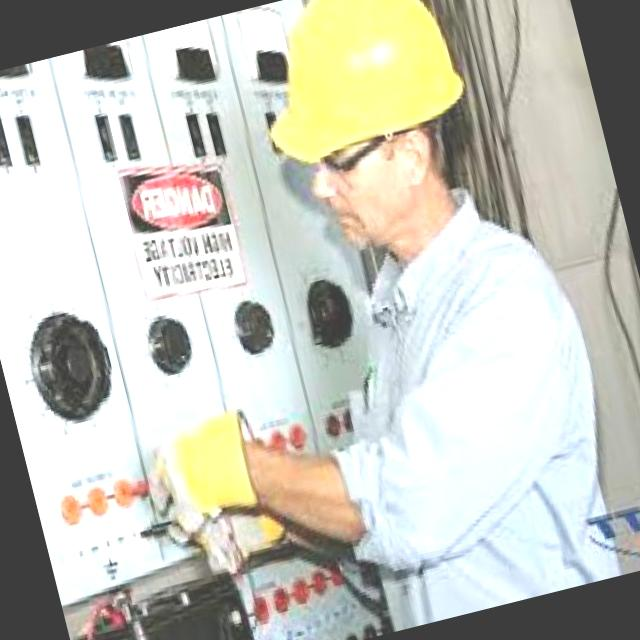gloves: (133, 408, 276, 542), (183, 476, 294, 578)
no-vest: (295, 198, 640, 621)
